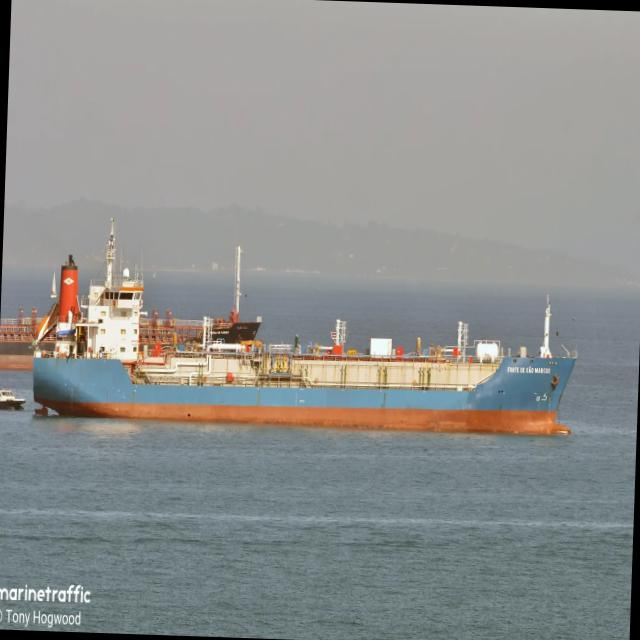Tanker: (32, 228, 576, 433)
